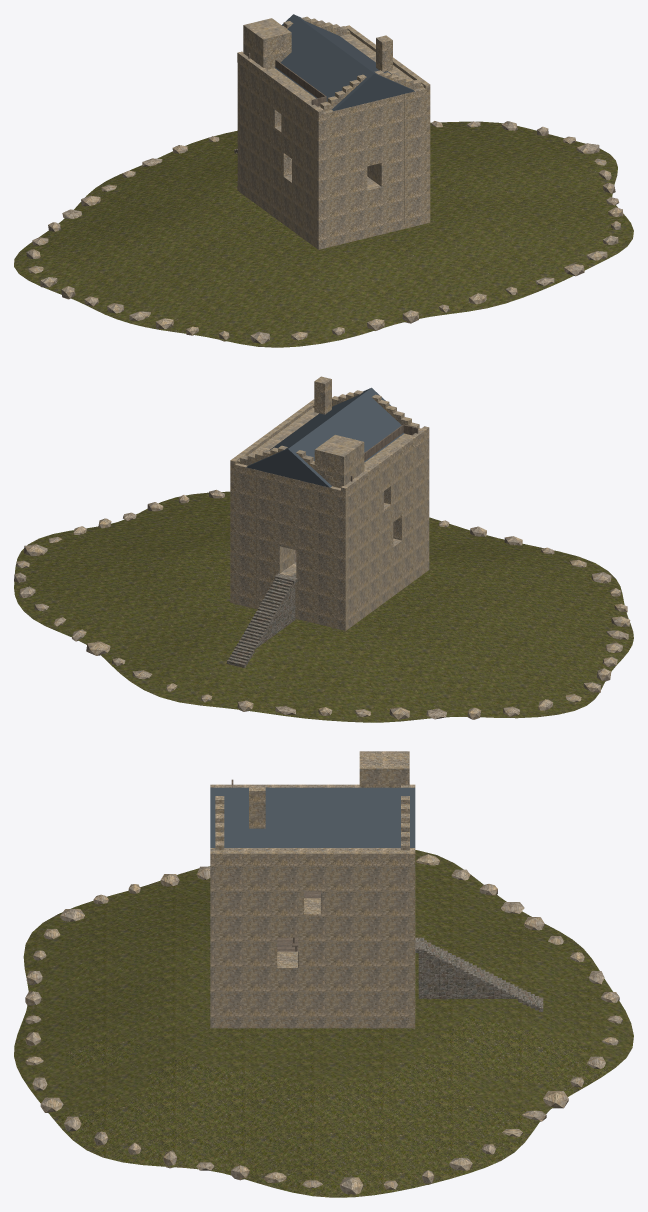
Rendered from castle-quality.glb.
3 views of the same model, one above another, from view 1: azimuth 30°, elevation 25°; view 2: azimuth 150°, elevation 25°; view 3: azimuth 270°, elevation 25° (orthographic). The views are drawn at different scales.
Visible parts, largest first — view 1: Island — proposed shoreline.004, West wall.004, South wall.004, Slate roof.004, East wall.004, Lookout caphouse.004, Parapet.008, Foundation.004, Chimney.004, Parapet.009; view 2: Island — proposed shoreline.004, West wall.004, North wall.004, Slate roof.004, East wall.004, Lookout caphouse.004, Parapet.008, Parapet.009, Chimney.004; view 3: Island — proposed shoreline.004, East wall.004, Slate roof.004, Parapet.009, Lookout caphouse.004, Chimney.004.
Part boxes in pixels (x1,y1,x2,y2): Island — proposed shoreline.004: (14,121,633,347); West wall.004: (237,63,343,249); South wall.004: (344,94,404,238); Slate roof.004: (275,14,414,110); East wall.004: (340,33,430,223); Lookout caphouse.004: (243,18,291,69); Parapet.008: (237,51,323,121); Foundation.004: (237,186,430,249); Chimney.004: (376,35,392,71); Parapet.009: (345,25,430,94); Island — proposed shoreline.004: (14,491,633,722); West wall.004: (319,433,429,630); North wall.004: (256,470,319,623); Slate roof.004: (246,387,403,487); East wall.004: (230,407,318,603); Lookout caphouse.004: (314,435,364,486); Parapet.008: (341,426,429,498); Parapet.009: (230,399,314,471); Chimney.004: (314,376,331,414); Island — proposed shoreline.004: (14,850,633,1197); East wall.004: (210,848,415,1027); Slate roof.004: (210,787,415,847); Parapet.009: (210,850,415,866); Lookout caphouse.004: (359,751,409,787); Chimney.004: (249,784,265,828).
Size of the model in its own units: 59.68 by 20.7 by 44.76.
11 materials, 5 textured.
